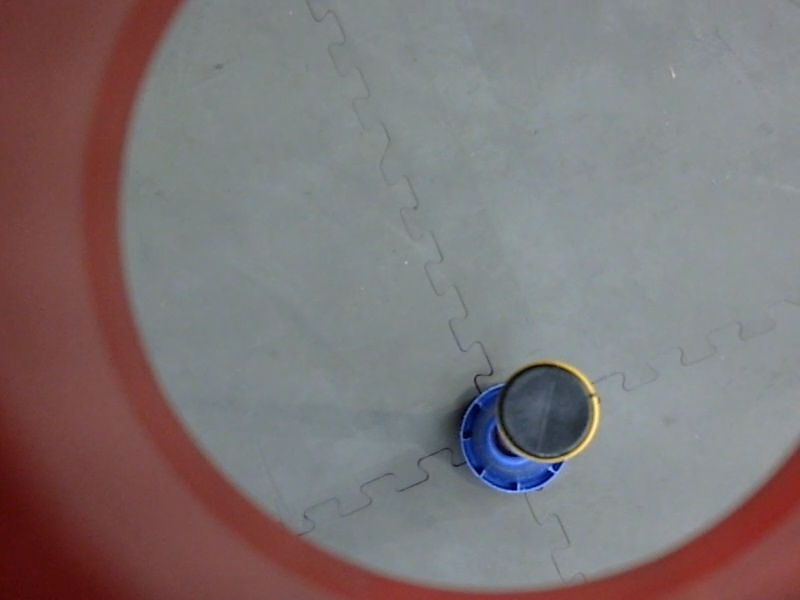tip: (487, 355, 607, 463)
